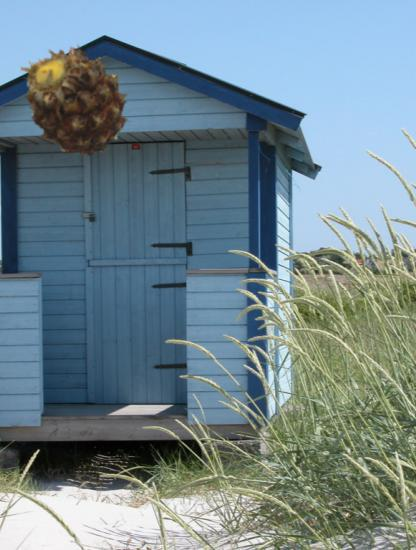Pineapple: (18, 40, 140, 162)
